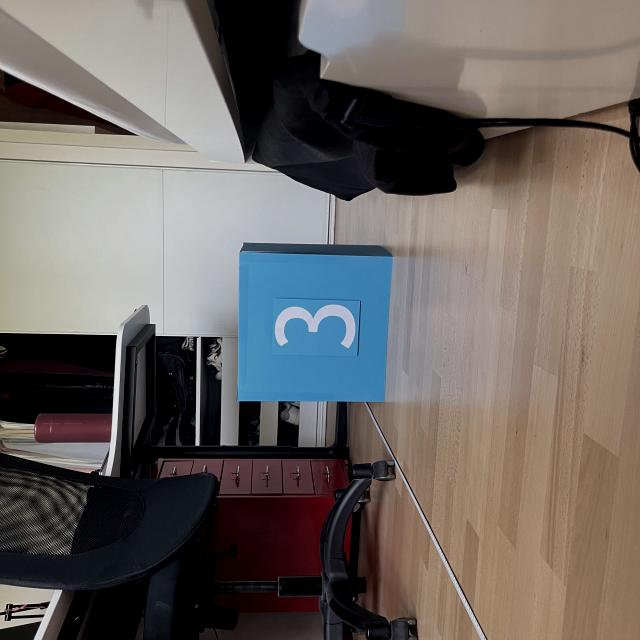box: (232, 238, 396, 404)
